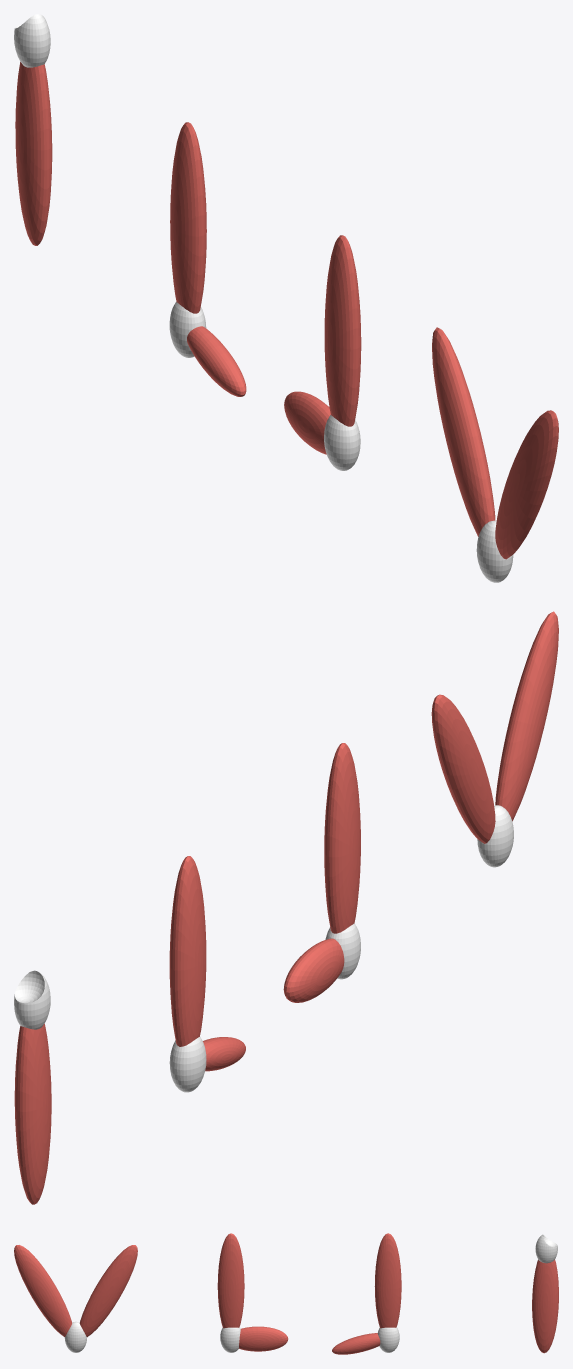
File: Types_of_chromosomes.gltf
The picture shows the model from 3 angles, top to bottom: view 1: azimuth 30°, elevation 25°; view 2: azimuth 150°, elevation 25°; view 3: azimuth 270°, elevation 25°; orthographic projection. The views are drawn at different scales.
Parts seen in each view (by area): view 1: Sphere.001, Sphere.004, Sphere.007, Sphere.010, Sphere.002, Sphere.008, Sphere.005, Sphere.009, Sphere.003, Sphere, Sphere.006; view 2: Sphere.002, Sphere.007, Sphere.004, Sphere.010, Sphere.001, Sphere.005, Sphere.009, Sphere.006, Sphere, Sphere.008, Sphere.003; view 3: Sphere.001, Sphere.002, Sphere.004, Sphere.007, Sphere.010, Sphere.005, Sphere.008, Sphere, Sphere.009, Sphere.006, Sphere.003.
Part boxes in pixels (box(x1,y1,x2,y2)): Sphere.001: box(432, 327, 495, 536); Sphere.004: box(324, 235, 361, 426); Sphere.007: box(170, 122, 206, 313); Sphere.010: box(15, 62, 52, 245); Sphere.002: box(495, 410, 558, 559); Sphere.008: box(187, 326, 246, 396); Sphere.005: box(284, 391, 330, 454); Sphere.009: box(14, 14, 50, 67); Sphere.003: box(324, 415, 360, 470); Sphere: box(476, 520, 513, 582); Sphere.006: box(169, 302, 206, 357); Sphere.002: box(495, 611, 558, 821); Sphere.007: box(169, 856, 206, 1046); Sphere.004: box(324, 743, 360, 933); Sphere.010: box(14, 1023, 51, 1204); Sphere.001: box(431, 694, 495, 843); Sphere.005: box(283, 938, 344, 1002); Sphere.009: box(14, 970, 50, 1029); Sphere.006: box(169, 1037, 206, 1092); Sphere: box(477, 805, 513, 867); Sphere.008: box(203, 1037, 245, 1071); Sphere.003: box(325, 923, 360, 979); Sphere.001: box(79, 1245, 137, 1336); Sphere.002: box(14, 1245, 71, 1336); Sphere.004: box(217, 1233, 244, 1328); Sphere.007: box(374, 1233, 401, 1328); Sphere.010: box(532, 1259, 558, 1353); Sphere.005: box(239, 1326, 288, 1351); Sphere.008: box(332, 1333, 380, 1354); Sphere: box(64, 1321, 87, 1352); Sphere.009: box(535, 1234, 557, 1263); Sphere.006: box(377, 1327, 399, 1352); Sphere.003: box(220, 1327, 240, 1352).
Size of the model in its own units: 0.6338 by 4.9 by 19.99.
